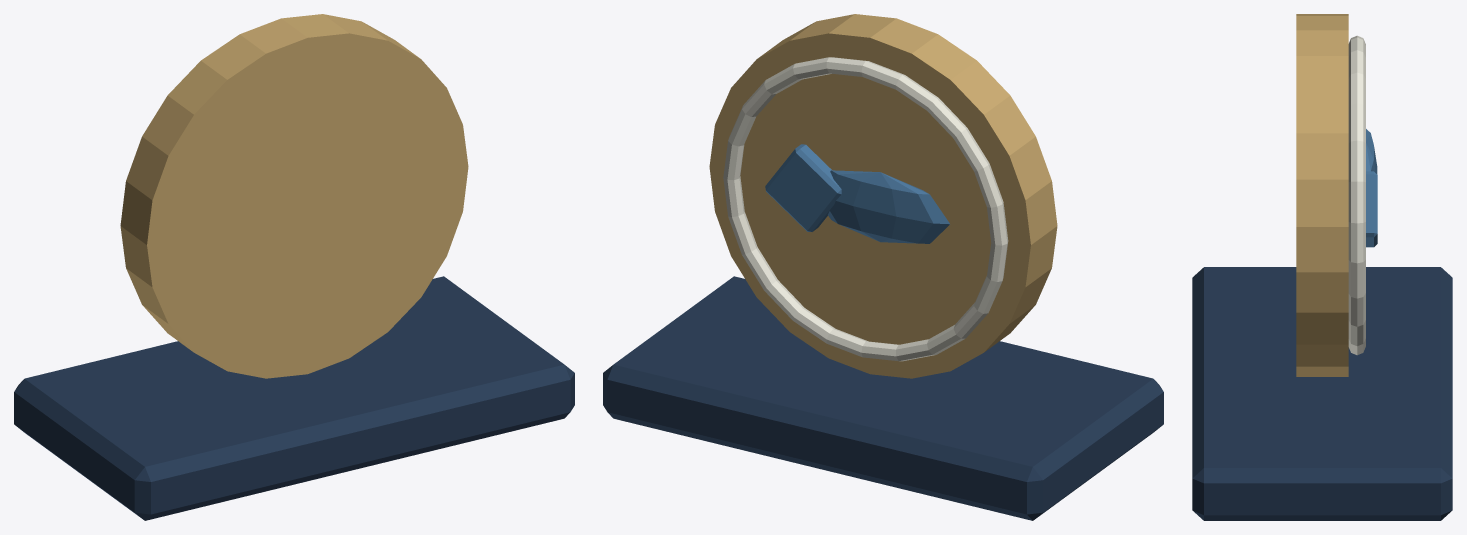
File: token_souvenir_display.glb
The picture shows the model from 3 angles, left to right: view 1: azimuth 30°, elevation 25°; view 2: azimuth 150°, elevation 25°; view 3: azimuth 270°, elevation 25°; orthographic projection.
Visible parts, largest first — view 1: token_coin, coin_base; view 2: token_coin, coin_base, coin_rim, fish_symbol, fish_tail; view 3: coin_base, token_coin, coin_rim, fish_tail, fish_symbol.
Part boxes in pixels (x1,y1,x2,y2): token_coin: (120, 14, 468, 378); coin_base: (14, 276, 574, 520); token_coin: (709, 14, 1057, 378); coin_base: (603, 276, 1163, 520); coin_rim: (723, 57, 1008, 361); fish_symbol: (828, 170, 949, 243); fish_tail: (765, 144, 841, 231); coin_base: (1192, 267, 1452, 520); token_coin: (1296, 14, 1348, 376); coin_rim: (1348, 35, 1365, 355); fish_tail: (1366, 171, 1377, 247); fish_symbol: (1366, 129, 1377, 173).
Bounding box in the file's own units: 0.23 × 0.1985 × 0.12.
